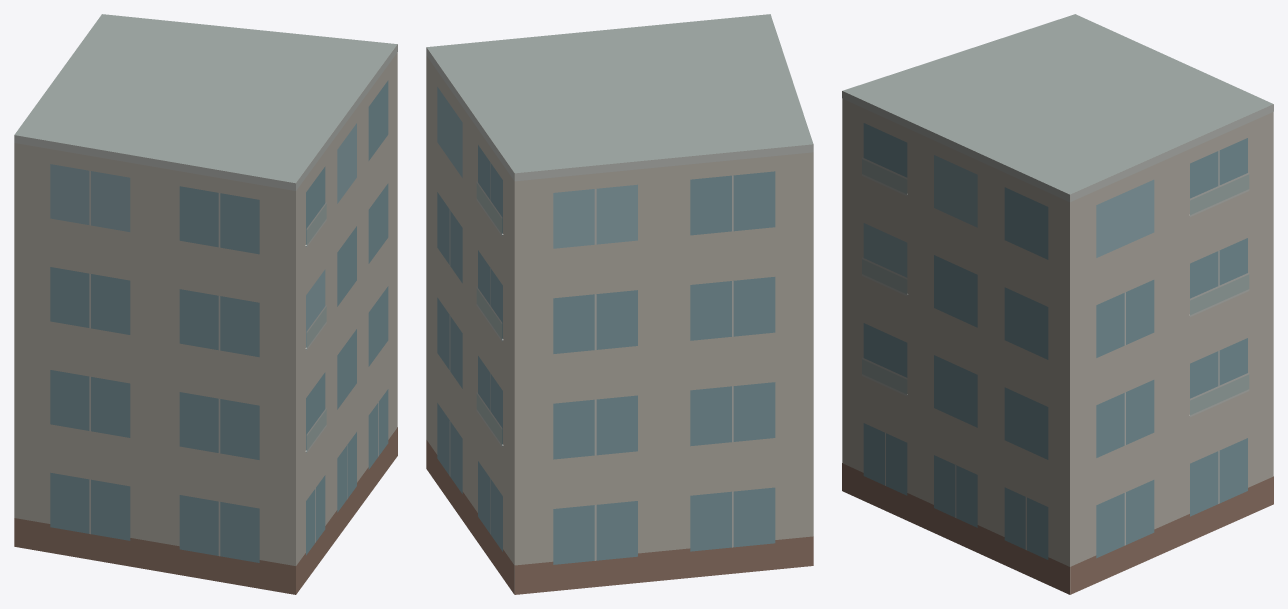
File: survey-upis-32784446.glb
The picture shows the model from 3 angles, left to right: view 1: azimuth 30°, elevation 25°; view 2: azimuth 150°, elevation 25°; view 3: azimuth 270°, elevation 25°; orthographic projection. The views are drawn at different scales.
Parts seen in each view (by area): view 1: survey-upis-32784446.tmp; view 2: survey-upis-32784446.tmp; view 3: survey-upis-32784446.tmp.
Part boxes in pixels (<box>): survey-upis-32784446.tmp: <box>14,14,397,594</box>; survey-upis-32784446.tmp: <box>426,14,813,594</box>; survey-upis-32784446.tmp: <box>842,14,1273,594</box>.
Size of the model in its own units: 12.4 by 12.8 by 12.52.
